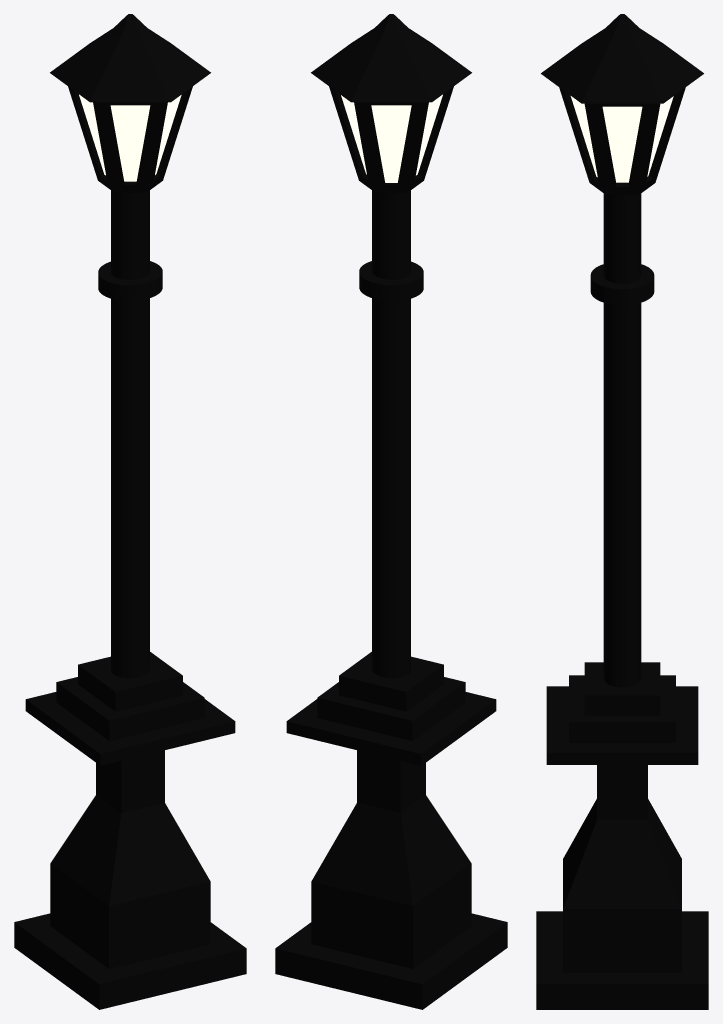
The model's file is StreetLight.fbx.
The picture shows the model from 3 angles, left to right: view 1: azimuth 30°, elevation 25°; view 2: azimuth 150°, elevation 25°; view 3: azimuth 270°, elevation 25°; orthographic projection.
Visible parts, largest first — view 1: Cube.001, Cylinder.003, Cylinder, Cube.002, Cylinder.002, Cylinder.001; view 2: Cube.001, Cylinder.003, Cylinder, Cube.002, Cylinder.002, Cylinder.001; view 3: Cube.001, Cylinder.003, Cylinder, Cube.002, Cylinder.002, Cylinder.001.
Boxes of the visible parts, box(x1,y1,x2,y2) form: Cube.001: box(14, 750, 246, 1009); Cylinder.003: box(50, 14, 210, 192); Cylinder: box(111, 298, 149, 677); Cube.002: box(25, 652, 235, 765); Cylinder.002: box(111, 190, 149, 279); Cylinder.001: box(98, 261, 162, 300); Cube.001: box(275, 750, 507, 1009); Cylinder.003: box(311, 14, 471, 192); Cylinder: box(372, 298, 410, 677); Cube.002: box(286, 652, 496, 765); Cylinder.002: box(372, 190, 410, 279); Cylinder.001: box(359, 261, 423, 300); Cube.001: box(536, 765, 708, 1009); Cylinder.003: box(541, 14, 703, 194); Cylinder: box(603, 303, 641, 687); Cube.002: box(546, 662, 698, 764); Cylinder.002: box(603, 193, 641, 283); Cylinder.001: box(590, 264, 654, 305).
Size of the model in its own units: 87.83 by 539 by 87.83.
